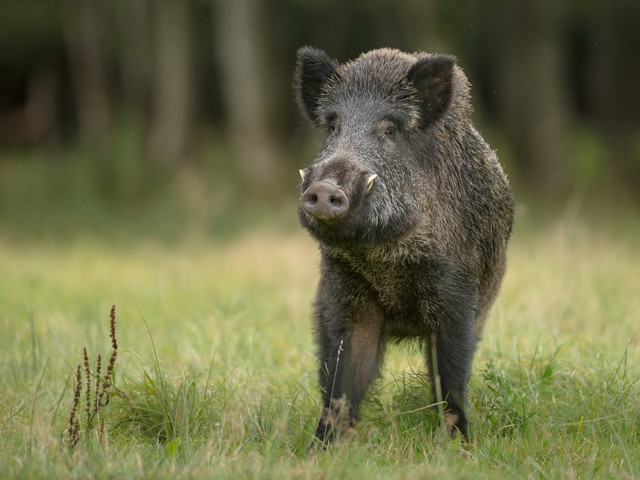Pig: (294, 44, 522, 446)
